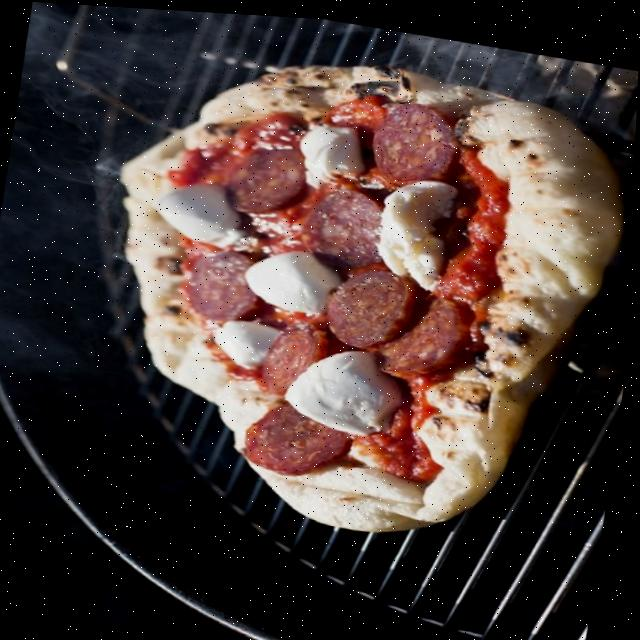pepperoni: (376, 282, 483, 380), (364, 89, 465, 188), (319, 257, 425, 351), (243, 391, 355, 477), (298, 177, 391, 267), (182, 237, 270, 325), (253, 307, 334, 400), (221, 134, 309, 218)
pizza: (75, 20, 639, 560)
